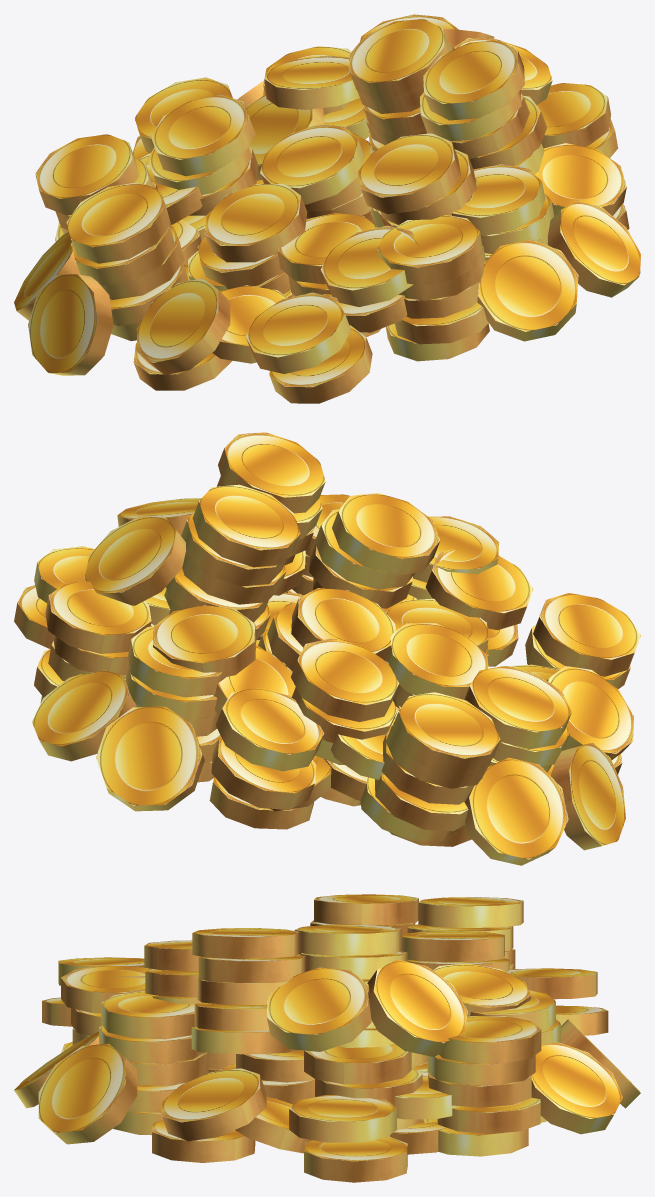
Rendered from coin3.obj.
3 renders of one model, top to bottom at view 1: azimuth 30°, elevation 25°; view 2: azimuth 150°, elevation 25°; view 3: azimuth 270°, elevation 25°, orthographic. The views are drawn at different scales.
Size of the model in its own units: 8.56 by 3.78 by 7.83.
